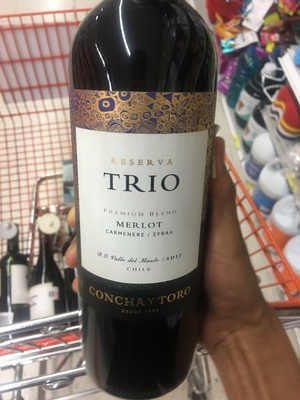trio merlot: (65, 15, 221, 374)
